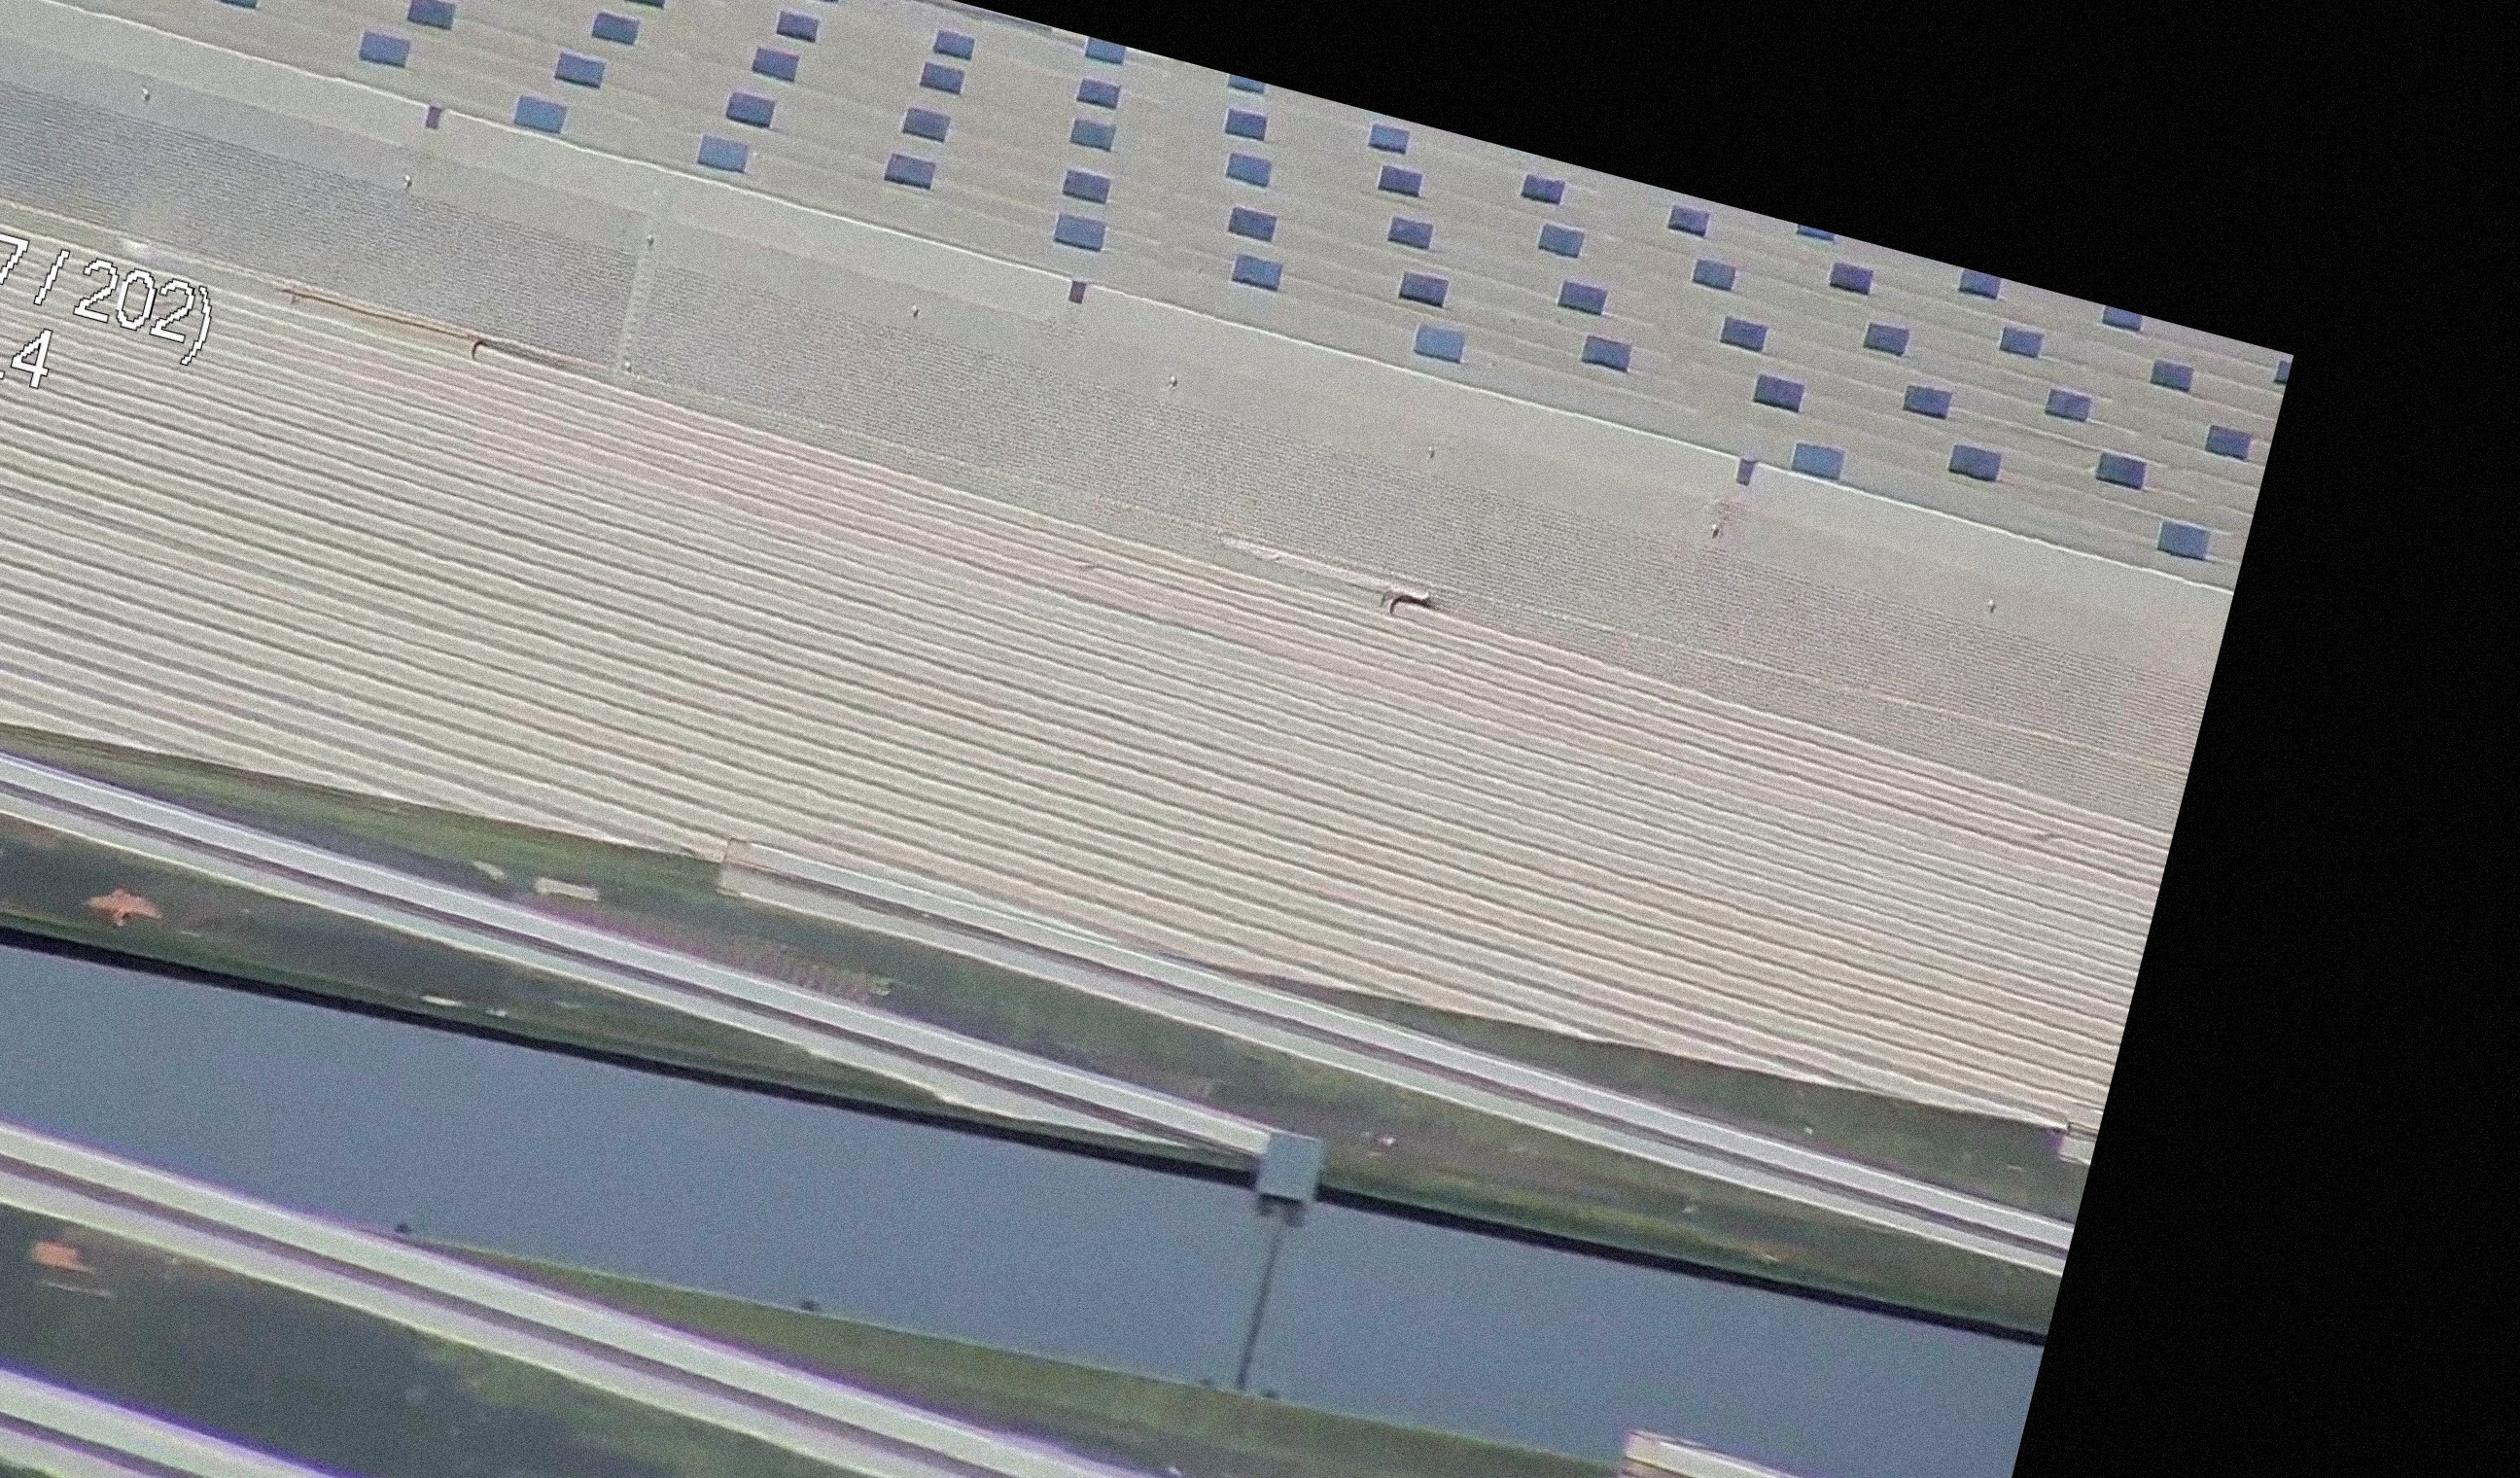Other: (1036, 0, 1213, 48)
